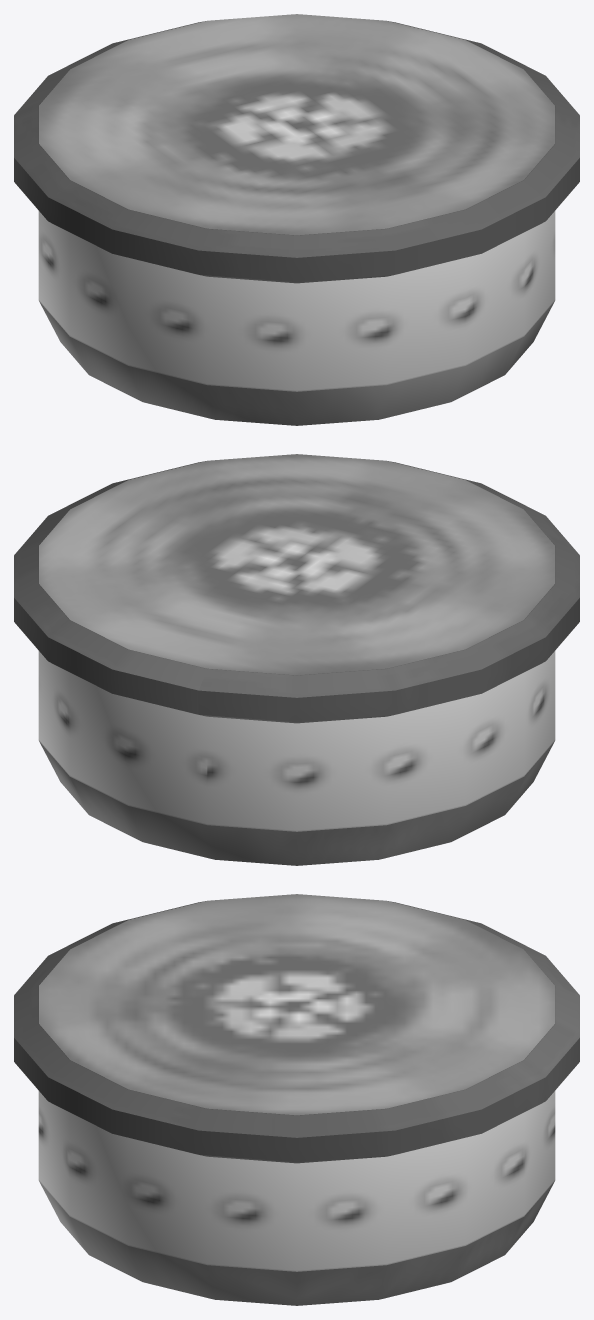
File: decoupler.dae
3 renders of one model, top to bottom at view 1: azimuth 30°, elevation 25°; view 2: azimuth 150°, elevation 25°; view 3: azimuth 270°, elevation 25°, orthographic.
Parts seen in each view (by area): view 1: Cylinder01; view 2: Cylinder01; view 3: Cylinder01.
Boxes of the visible parts, x1,y1,x2,y2 form: Cylinder01: (14,14,579,425); Cylinder01: (14,454,579,865); Cylinder01: (14,894,579,1305).
Size of what is drawn, in the model's own units: 0.4812 by 0.1845 by 0.4739.
